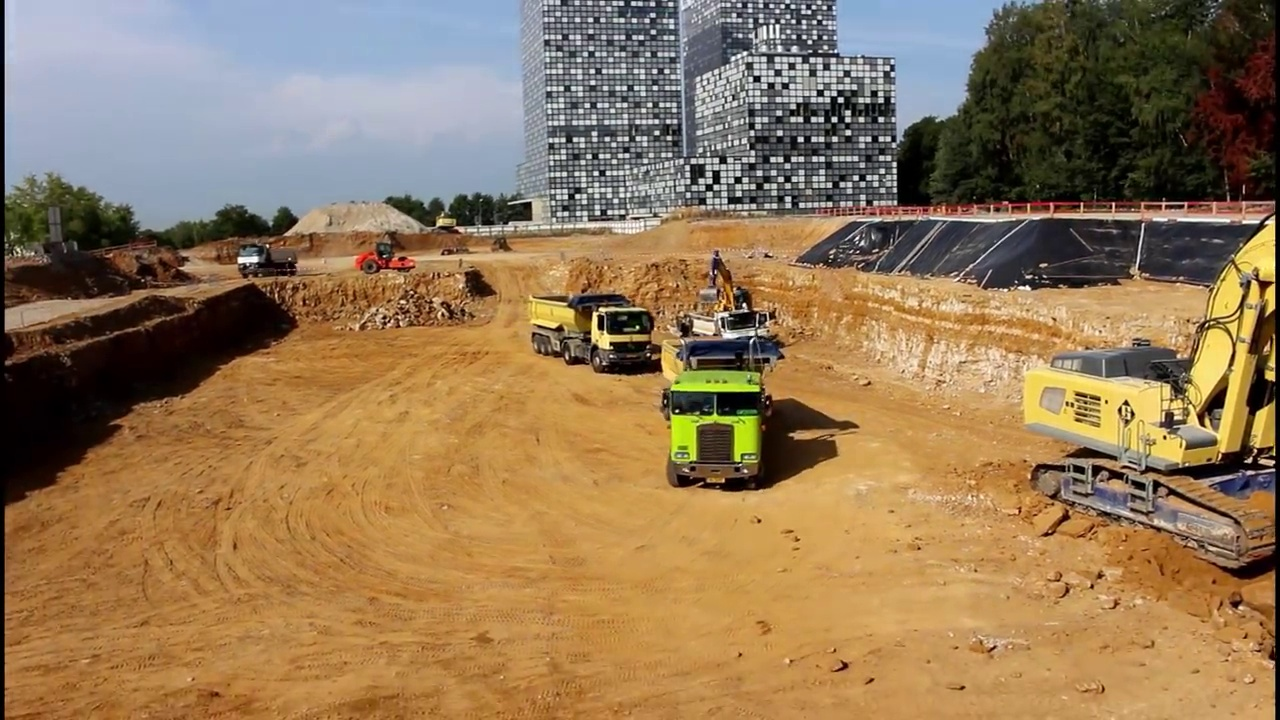compactor: (353, 240, 416, 275)
excavator: (1017, 203, 1280, 572), (696, 247, 761, 336), (434, 207, 458, 236)
truck: (654, 328, 774, 496), (524, 286, 657, 375), (677, 305, 779, 358), (236, 241, 299, 279)
worker: (286, 254, 296, 281)
